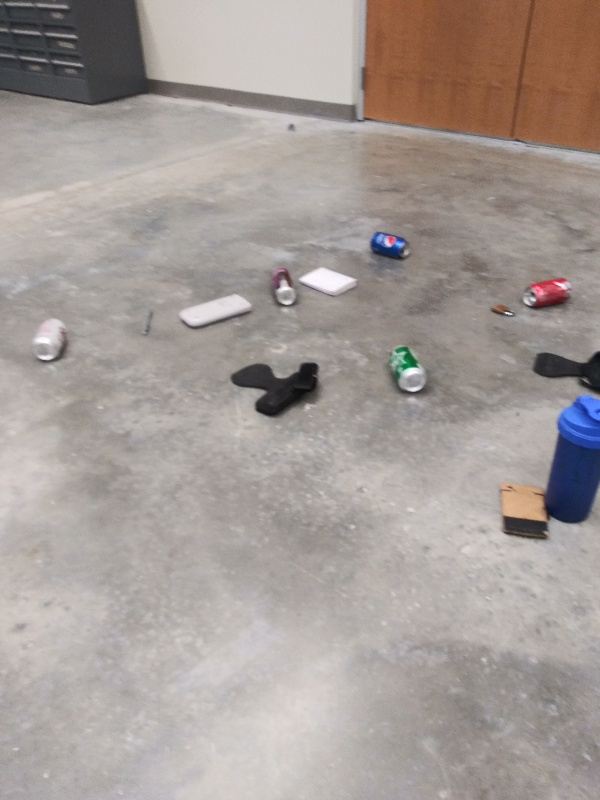can: (518, 269, 578, 310), (384, 343, 429, 394), (30, 313, 70, 365), (367, 229, 414, 263), (265, 265, 300, 310)
